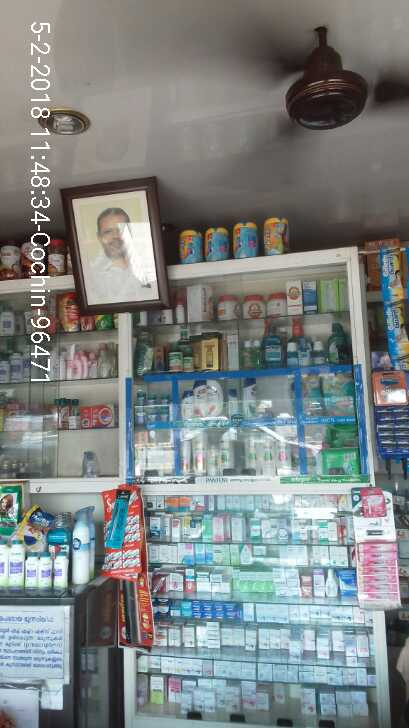vicks: (135, 394, 170, 424)
